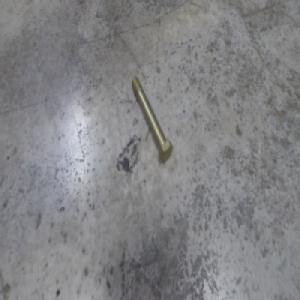Bolt: (130, 75, 173, 163)
